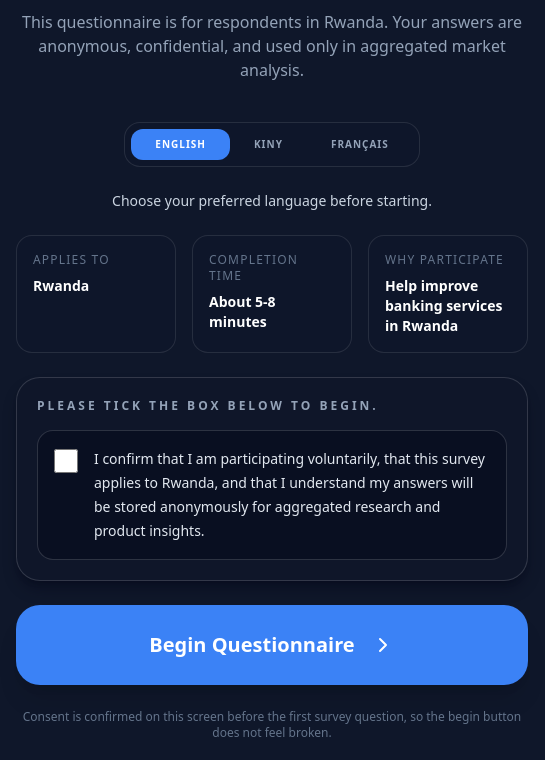
Test: survey country routes › shows inline consent validation instead of leaving begin feeling broken
(page scrolled)
Click the button "Begin Questionnaire". click: (272, 645)
box: [16,605,528,685]
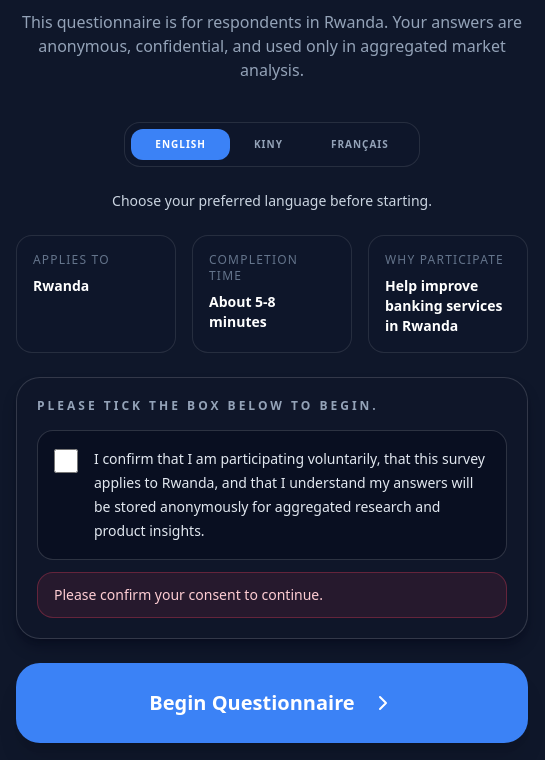
Check: the text "Please tick the box below to begin." is shown, box [37,397,379,414]
Check: the text "Please confirm your consent to continue." is shown, box [37,572,507,618]
